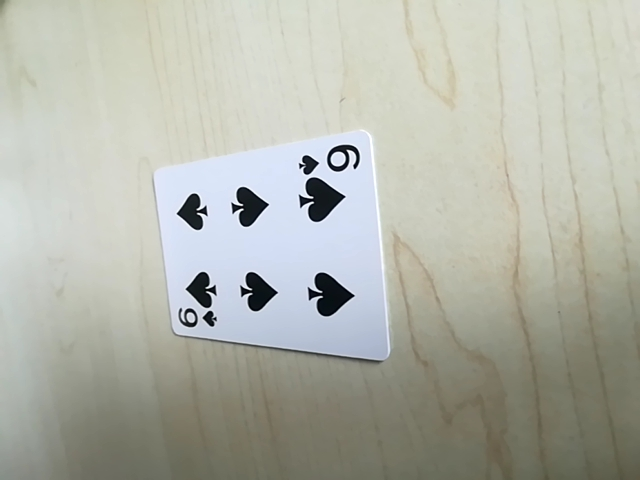ht 6: (297, 141, 363, 177), (171, 304, 221, 334)
